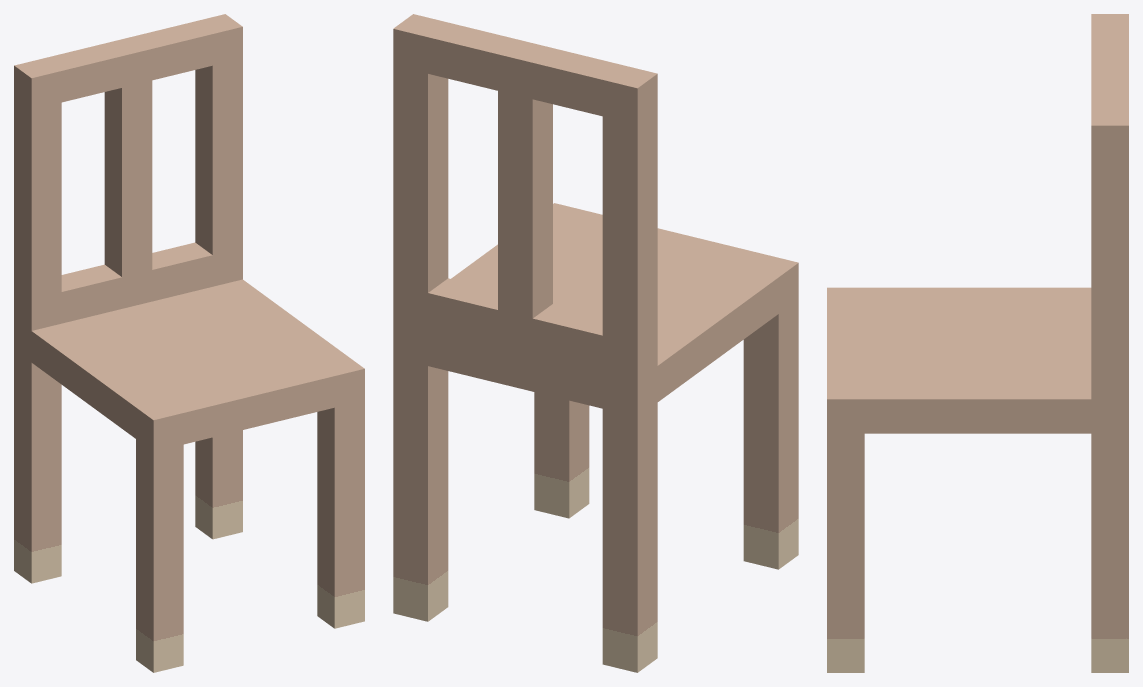
Rendered from krzeslo.dae.
3 views of the same model, side by side, from view 1: azimuth 30°, elevation 25°; view 2: azimuth 150°, elevation 25°; view 3: azimuth 270°, elevation 25° (orthographic). The views are drawn at different scales.
Visible parts, largest first — view 1: krzeslo; view 2: krzeslo; view 3: krzeslo.
Boxes of the visible parts, left/top/right/bottom form: krzeslo: left=14, top=14, right=364, bottom=672; krzeslo: left=393, top=14, right=798, bottom=672; krzeslo: left=827, top=14, right=1128, bottom=672.
Size of the model in its own units: 7 by 16 by 8.
Materials: 1 (1 with a texture image).
